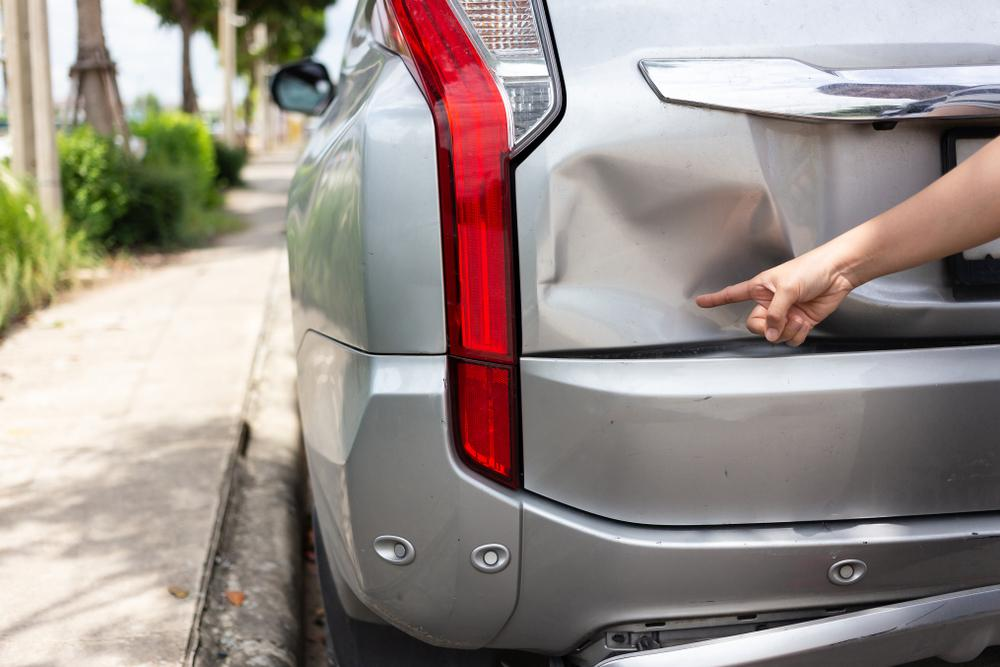dent: (543, 156, 789, 344)
scratch: (808, 81, 1000, 120)
